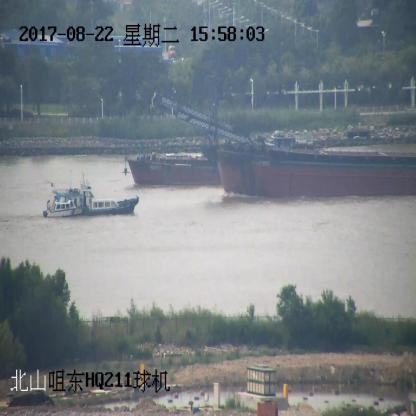Fishing Boat: (41, 180, 139, 218)
